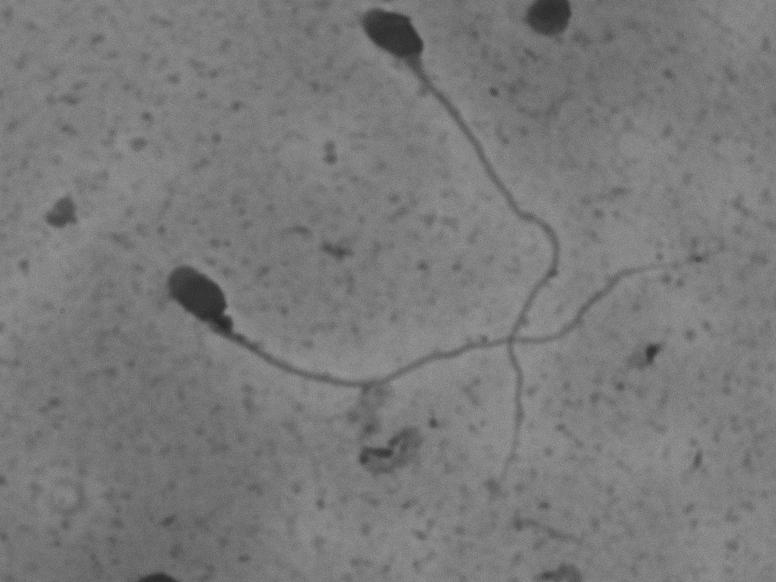Abnormal: (108, 218, 761, 448), (345, 2, 580, 494)
